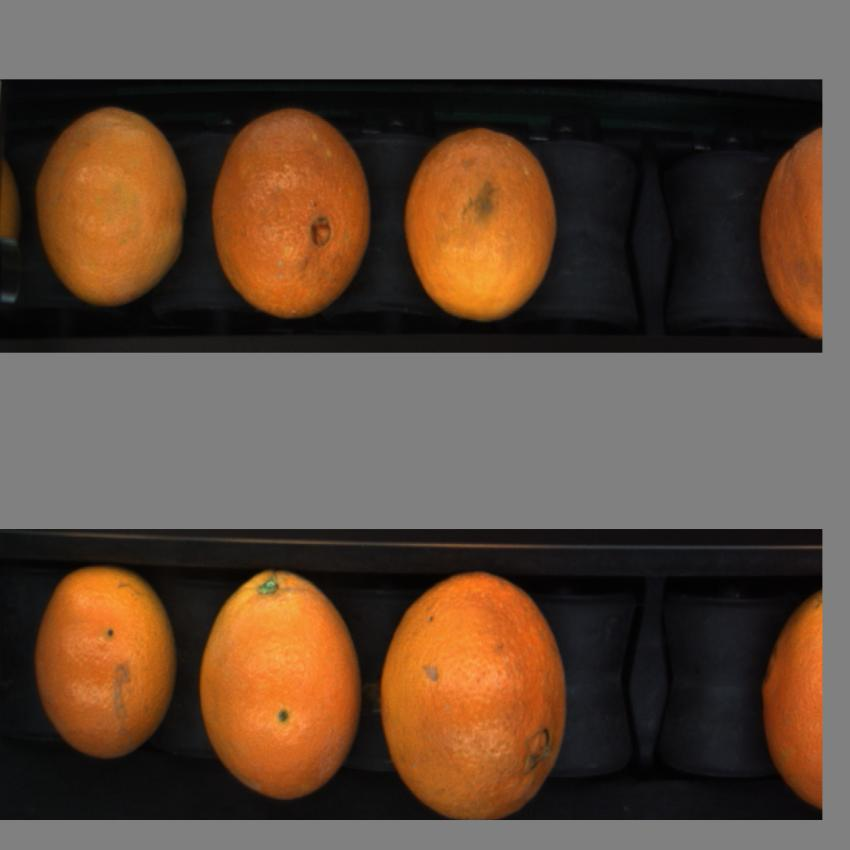Buen estado: (377, 566, 576, 820), (197, 566, 370, 804), (399, 118, 567, 322), (30, 101, 192, 312), (29, 564, 184, 765), (755, 581, 821, 816)
Mal estado: (208, 104, 382, 322), (753, 121, 822, 336)
